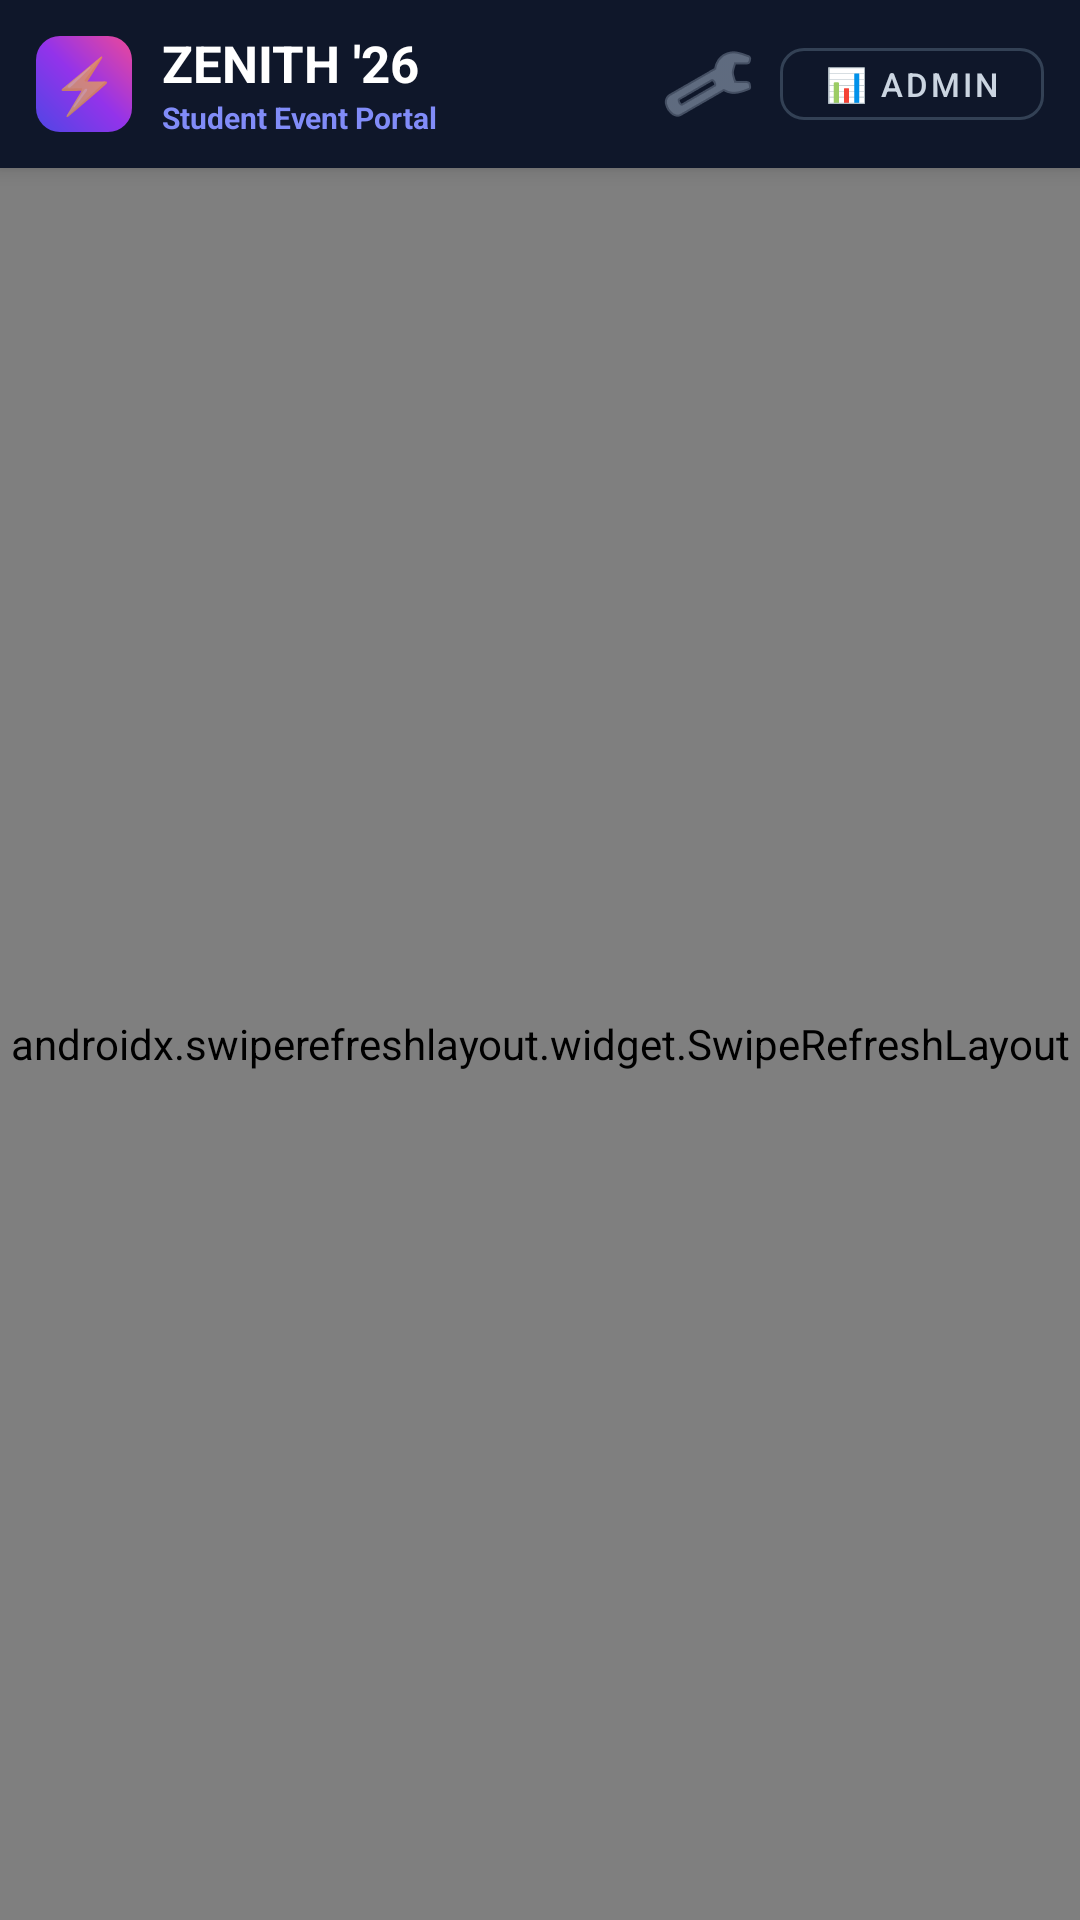

Locate icon controls on the screen. Image size 1080*1920, boxes as region(x1, y1, x2, y2).
Server Settings: region(665, 51, 751, 117)
